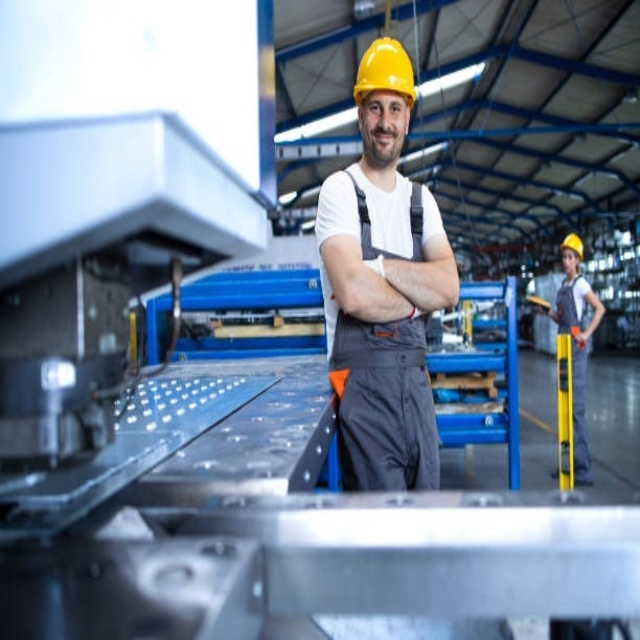Sin_gafas: (366, 94, 405, 116)
Sin_mascara: (370, 125, 395, 154)
